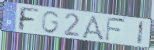2: (63, 13, 81, 38)
A: (79, 15, 106, 42)
F: (104, 16, 127, 43), (18, 6, 41, 33)
G: (40, 10, 61, 35)
I: (136, 20, 145, 46)
